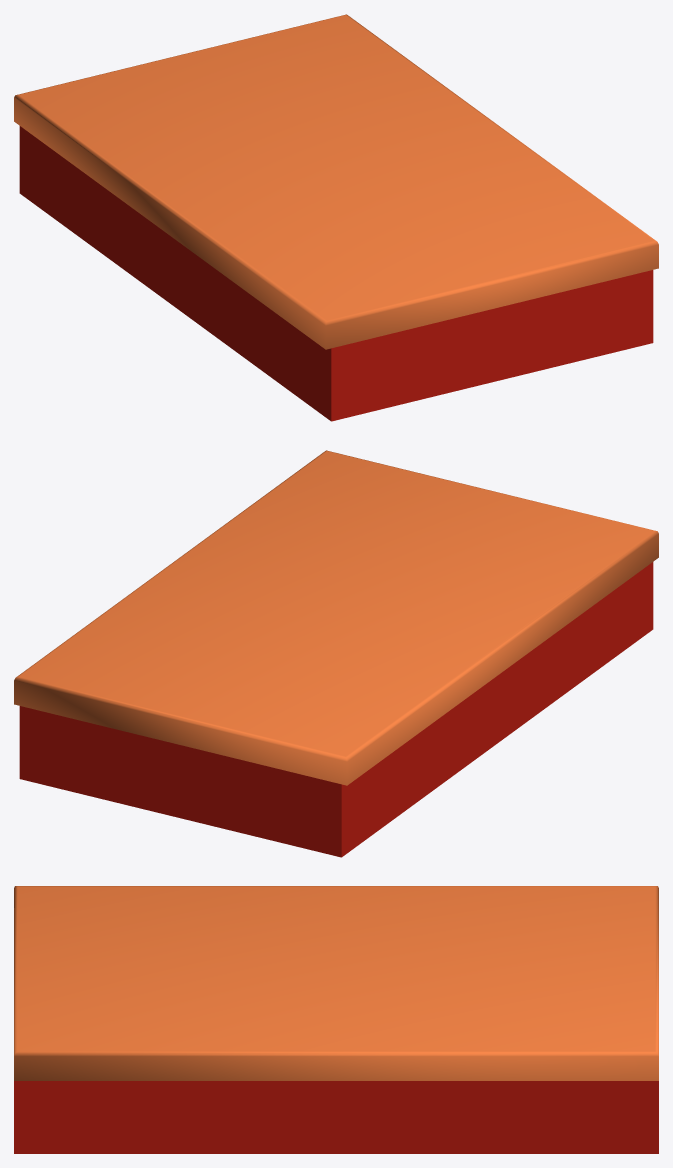
The model's file is ban bep.FBX.
The picture shows the model from 3 angles, top to bottom: view 1: azimuth 30°, elevation 25°; view 2: azimuth 150°, elevation 25°; view 3: azimuth 270°, elevation 25°; orthographic projection. The views are drawn at different scales.
Visible parts, largest first — view 1: Box1131; view 2: Box1131; view 3: Box1131.
Boxes of the visible parts, box(x1,y1,x2,y2) form: Box1131: box(14, 14, 658, 421); Box1131: box(14, 450, 658, 857); Box1131: box(14, 886, 658, 1153).
Bounding box in the file's own units: 4.4 × 1.27 × 7.14.
